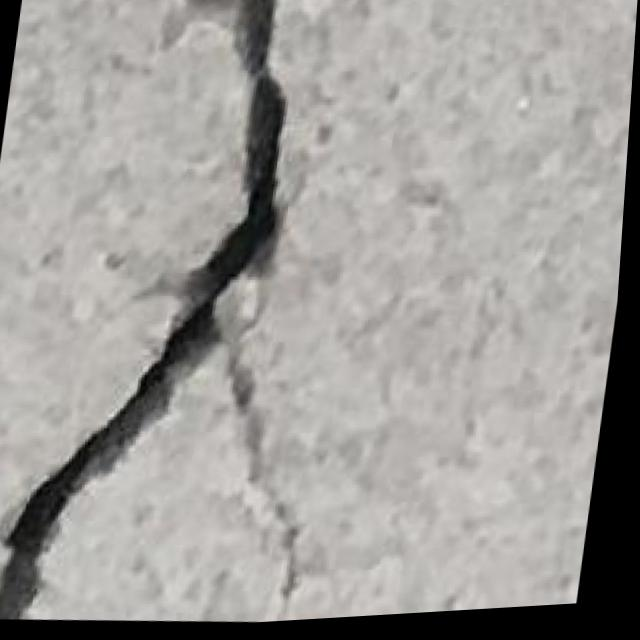Crack: (0, 0, 394, 639)
